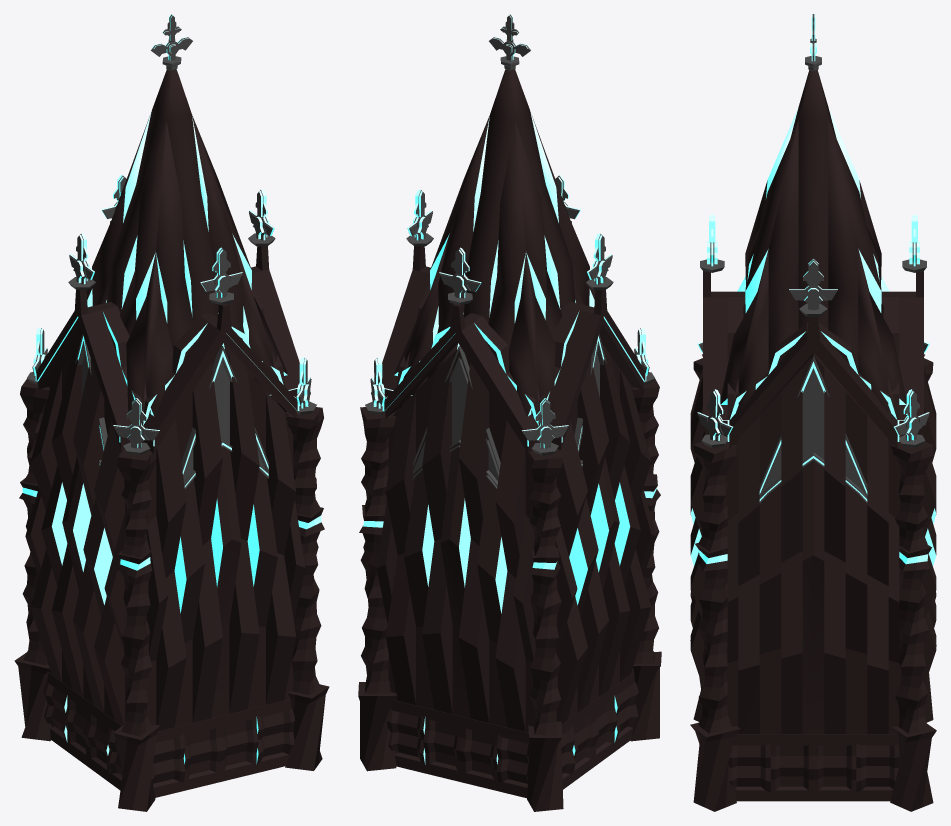
The model's file is Goth_9.glb.
The picture shows the model from 3 angles, left to right: view 1: azimuth 30°, elevation 25°; view 2: azimuth 150°, elevation 25°; view 3: azimuth 270°, elevation 25°; orthographic projection.
Parts seen in each view (by area): view 1: WallWithWindow.018, WallWithWindow.021, Roof.011, Roof.014, Pillar.021, Barrier.001, Roof.015, Pillar.022, Roof.016, Pillar.024, Barrier.016, WallDecoration.018 (+8 smaller); view 2: WallWithWindow.020, WallWithWindow.021, Roof.013, Roof.014, Pillar.024, Barrier.015, Roof.015, Pillar.023, Roof.016, Pillar.021, Barrier.016, WallDecoration.020 (+8 smaller); view 3: WallWithWindow.019, Roof.012, Barrier.014, Pillar.022, Pillar.023, Roof.016, Roof.015, Roof.011, Roof.013, WallDecoration.019, WallWithWindow.018, WallWithWindow.020 (+6 smaller).
Boxes of the visible parts, x1=… form: WallWithWindow.018: x1=146, y1=349, x2=305, y2=731; WallWithWindow.021: x1=25, y1=342, x2=127, y2=725; Roof.011: x1=141, y1=69, x2=286, y2=442; Roof.014: x1=86, y1=69, x2=170, y2=412; Pillar.021: x1=113, y1=449, x2=160, y2=811; Barrier.001: x1=151, y1=699, x2=294, y2=797; Roof.015: x1=35, y1=246, x2=299, y2=449; Pillar.022: x1=285, y1=407, x2=329, y2=770; Roof.016: x1=142, y1=303, x2=299, y2=453; Pillar.024: x1=14, y1=379, x2=51, y2=741; Barrier.016: x1=43, y1=672, x2=122, y2=790; WallDecoration.018: x1=181, y1=346, x2=268, y2=489; WallWithWindow.020: x1=376, y1=349, x2=535, y2=732; WallWithWindow.021: x1=555, y1=342, x2=656, y2=724; Roof.013: x1=395, y1=70, x2=540, y2=442; Roof.014: x1=509, y1=69, x2=595, y2=412; Pillar.024: x1=527, y1=449, x2=563, y2=811; Barrier.015: x1=387, y1=700, x2=529, y2=798; Roof.015: x1=382, y1=246, x2=646, y2=449; Pillar.023: x1=358, y1=407, x2=397, y2=771; Roof.016: x1=382, y1=304, x2=539, y2=453; Pillar.021: x1=630, y1=379, x2=661, y2=741; Barrier.016: x1=561, y1=672, x2=638, y2=789; WallDecoration.020: x1=413, y1=346, x2=500, y2=489; WallWithWindow.019: x1=727, y1=352, x2=899, y2=733; Roof.012: x1=725, y1=70, x2=901, y2=441; Barrier.014: x1=728, y1=734, x2=899, y2=801; Pillar.022: x1=690, y1=441, x2=740, y2=811; Pillar.023: x1=890, y1=441, x2=936, y2=811; Roof.016: x1=703, y1=270, x2=923, y2=435; Roof.015: x1=727, y1=317, x2=899, y2=448; Roof.011: x1=720, y1=70, x2=812, y2=435; Roof.013: x1=814, y1=70, x2=906, y2=435; WallDecoration.019: x1=759, y1=355, x2=867, y2=503; WallWithWindow.018: x1=690, y1=368, x2=727, y2=687; WallWithWindow.020: x1=899, y1=368, x2=936, y2=686.
Bounding box in the file's own units: 1006 × 3357 × 1006.
